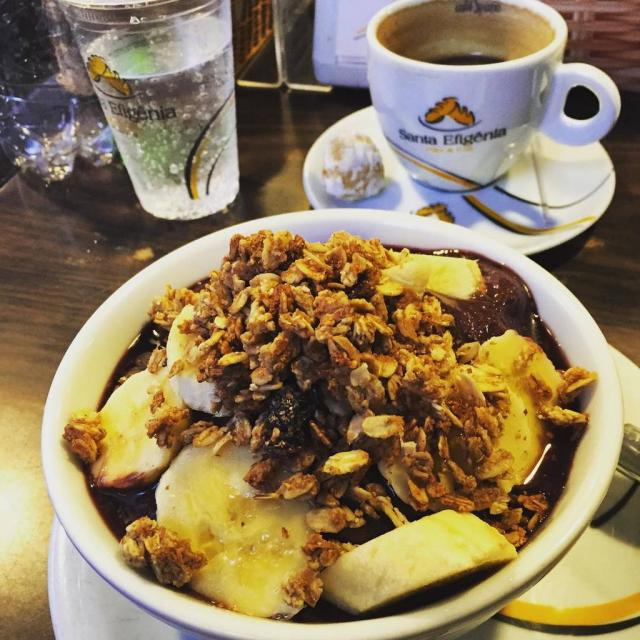Coffee: (372, 0, 550, 68)
Tea: (416, 49, 506, 68)
